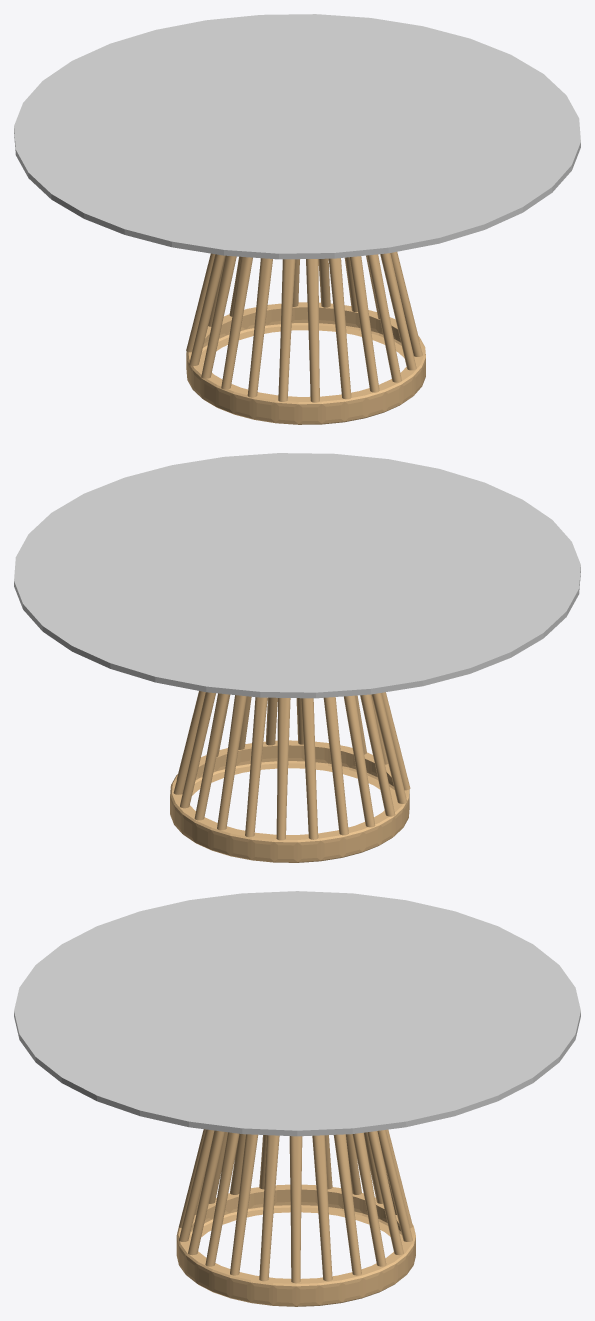
3 renders of one model, top to bottom at view 1: azimuth 30°, elevation 25°; view 2: azimuth 150°, elevation 25°; view 3: azimuth 270°, elevation 25°, orthographic.
Visible parts, largest first — view 1: Cylinder, Cylinder.003, L_ebce2d57_6d32_4872_a5bc_6853fc8b7ea2_C1_I24, L_8e0146b0_dba1_4ba1_942a_557064f3e1a9_C1_I16, L_5c6668cb_a91b_43ed_a9ba_f6b62225f62a_C1_I13, L_bab1dfca_e236_48e8_b8ea_820b49139196_C1_I19, L_1f3a947c_dab1_4a49_86fa_a7cc72c1e42c_C1_I2, L_4260ef1b_c048_4412_83f3_fa6611e8f226_C1_I9, L_cfaadf1b_180d_4207_95d2_deb6bbf3642c_C1_I21, L_4df543b3_639e_475c_9560_65c53236d5d6_C1_I10, L_ed37c760_51e2_44df_bfb0_eaafb5e99514_C1_I25, L_3dfb43d0_ca0f_494a_bb4b_ec5e3d76e276_C1_I7 (+2 smaller); view 2: Cylinder, Cylinder.003, L_2b3c9d68_130d_4593_9455_727cb3d74f35_C1_I4, L_7901e4c0_354b_4720_923e_b920eb76e328_C1_I15, L_57c5135b_b08b_42be_a3d5_d8649e1eb606_C1_I12, L_b7ed9396_872b_4a6d_b0a4_651f94ab07c4_C1_I18, L_d36098bc_10c3_4463_867d_f079556f7b42_C1_I22, L_3dfb43d0_ca0f_494a_bb4b_ec5e3d76e276_C1_I7, L_2793a57f_7491_416d_a851_9f2f3dc0c352_C1_I3, L_4df543b3_639e_475c_9560_65c53236d5d6_C1_I10, L_c9caf594_626f_41e7_b583_783c8d853303_C1_I20, L_4260ef1b_c048_4412_83f3_fa6611e8f226_C1_I9 (+2 smaller); view 3: Cylinder, Cylinder.003, L_e6186b2c_0c24_4594_9d02_455fd0295de7_C1_I23, L_af2c8379_443c_4046_b41b_4fb2f81727f2_C1_I17, L_ee4d1fa1_6e02_4113_9a42_2db1010a4f71_C1_I26, L_403675b0_9e81_4a41_81fb_e92d77c33ba3_C1_I8, L_f1ee7df2_b6e9_4ccb_a6a5_923ab32abfa3_C1_I27, L_ed37c760_51e2_44df_bfb0_eaafb5e99514_C1_I25, L_c9caf594_626f_41e7_b583_783c8d853303_C1_I20, L_cfaadf1b_180d_4207_95d2_deb6bbf3642c_C1_I21, L_2793a57f_7491_416d_a851_9f2f3dc0c352_C1_I3, L_1f3a947c_dab1_4a49_86fa_a7cc72c1e42c_C1_I2 (+3 smaller).
Part boxes in pixels (x1,y1,x2,y2): Cylinder: [14, 14, 580, 259]; Cylinder.003: [186, 302, 425, 424]; L_ebce2d57_6d32_4872_a5bc_6853fc8b7ea2_C1_I24: [278, 259, 295, 401]; L_8e0146b0_dba1_4ba1_942a_557064f3e1a9_C1_I16: [306, 259, 319, 402]; L_5c6668cb_a91b_43ed_a9ba_f6b62225f62a_C1_I13: [328, 258, 351, 399]; L_bab1dfca_e236_48e8_b8ea_820b49139196_C1_I19: [247, 258, 272, 397]; L_1f3a947c_dab1_4a49_86fa_a7cc72c1e42c_C1_I2: [349, 256, 379, 392]; L_4260ef1b_c048_4412_83f3_fa6611e8f226_C1_I9: [221, 257, 252, 389]; L_cfaadf1b_180d_4207_95d2_deb6bbf3642c_C1_I21: [367, 254, 401, 382]; L_4df543b3_639e_475c_9560_65c53236d5d6_C1_I10: [201, 255, 236, 378]; L_ed37c760_51e2_44df_bfb0_eaafb5e99514_C1_I25: [380, 253, 416, 370]; L_3dfb43d0_ca0f_494a_bb4b_ec5e3d76e276_C1_I7: [189, 254, 225, 365]; Cylinder: [14, 453, 580, 698]; Cylinder.003: [170, 740, 409, 862]; L_2b3c9d68_130d_4593_9455_727cb3d74f35_C1_I4: [276, 698, 290, 840]; L_7901e4c0_354b_4720_923e_b920eb76e328_C1_I15: [301, 698, 318, 839]; L_57c5135b_b08b_42be_a3d5_d8649e1eb606_C1_I12: [245, 697, 267, 837]; L_b7ed9396_872b_4a6d_b0a4_651f94ab07c4_C1_I18: [323, 697, 348, 835]; L_d36098bc_10c3_4463_867d_f079556f7b42_C1_I22: [217, 695, 246, 830]; L_3dfb43d0_ca0f_494a_bb4b_ec5e3d76e276_C1_I7: [343, 695, 375, 827]; L_2793a57f_7491_416d_a851_9f2f3dc0c352_C1_I3: [194, 693, 228, 820]; L_4df543b3_639e_475c_9560_65c53236d5d6_C1_I10: [360, 694, 395, 816]; L_c9caf594_626f_41e7_b583_783c8d853303_C1_I20: [180, 692, 215, 808]; L_4260ef1b_c048_4412_83f3_fa6611e8f226_C1_I9: [371, 693, 407, 803]; Cylinder: [14, 891, 580, 1136]; Cylinder.003: [176, 1184, 415, 1306]; L_e6186b2c_0c24_4594_9d02_455fd0295de7_C1_I23: [259, 1135, 279, 1281]; L_af2c8379_443c_4046_b41b_4fb2f81727f2_C1_I17: [289, 1136, 302, 1283]; L_ee4d1fa1_6e02_4113_9a42_2db1010a4f71_C1_I26: [312, 1135, 332, 1281]; L_403675b0_9e81_4a41_81fb_e92d77c33ba3_C1_I8: [230, 1134, 258, 1275]; L_f1ee7df2_b6e9_4ccb_a6a5_923ab32abfa3_C1_I27: [333, 1134, 361, 1275]; L_ed37c760_51e2_44df_bfb0_eaafb5e99514_C1_I25: [205, 1132, 239, 1266]; L_c9caf594_626f_41e7_b583_783c8d853303_C1_I20: [352, 1132, 386, 1266]; L_cfaadf1b_180d_4207_95d2_deb6bbf3642c_C1_I21: [188, 1130, 224, 1255]; L_2793a57f_7491_416d_a851_9f2f3dc0c352_C1_I3: [367, 1131, 403, 1255]; L_1f3a947c_dab1_4a49_86fa_a7cc72c1e42c_C1_I2: [179, 1129, 214, 1241].
Bounding box in the file's own units: 0.9 × 0.4241 × 0.9.
